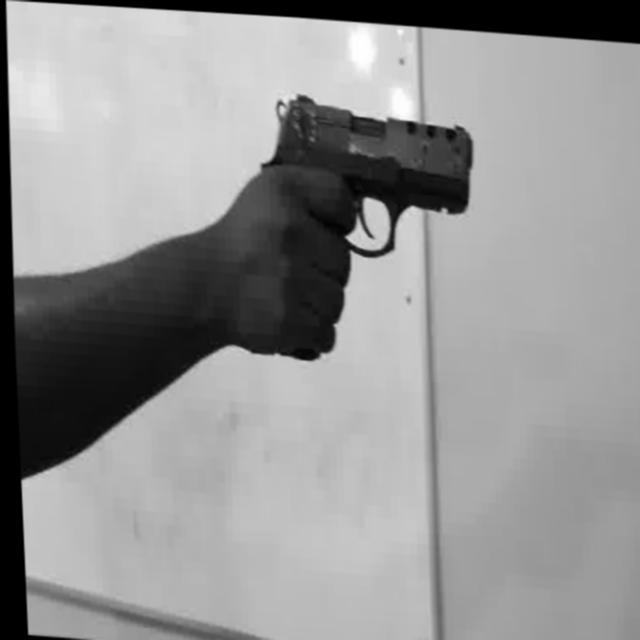weapon: (256, 84, 477, 260)
